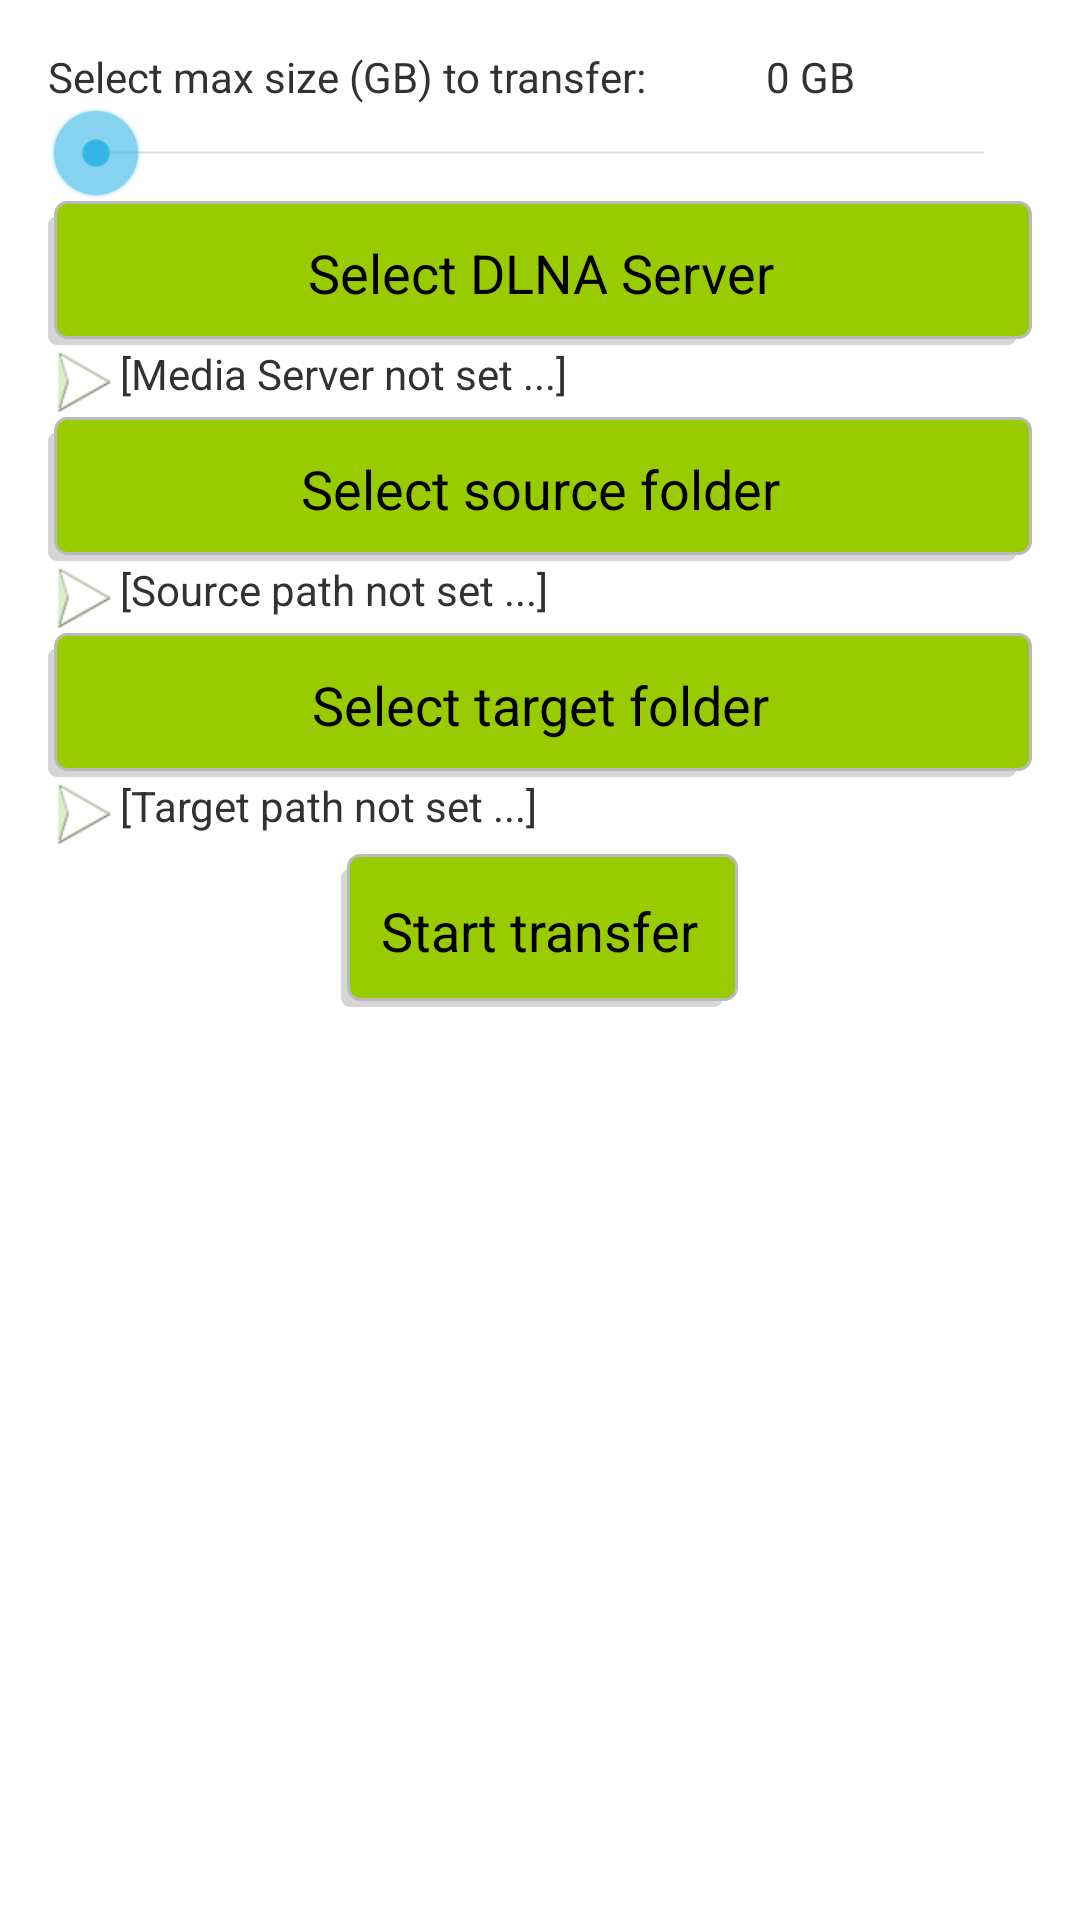

Icon bounding boxes for this 1080w x 1920h phone screenshot, format (x1=x1, y1=y1, x2=x2, y2=y2):
custom arrow: (x1=58, y1=352, x2=111, y2=412), (x1=58, y1=568, x2=111, y2=628), (x1=58, y1=784, x2=111, y2=844)
